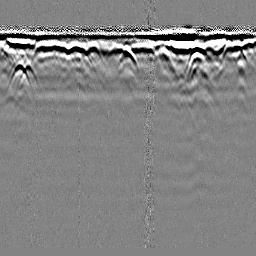cavity: (117, 43, 139, 71)
